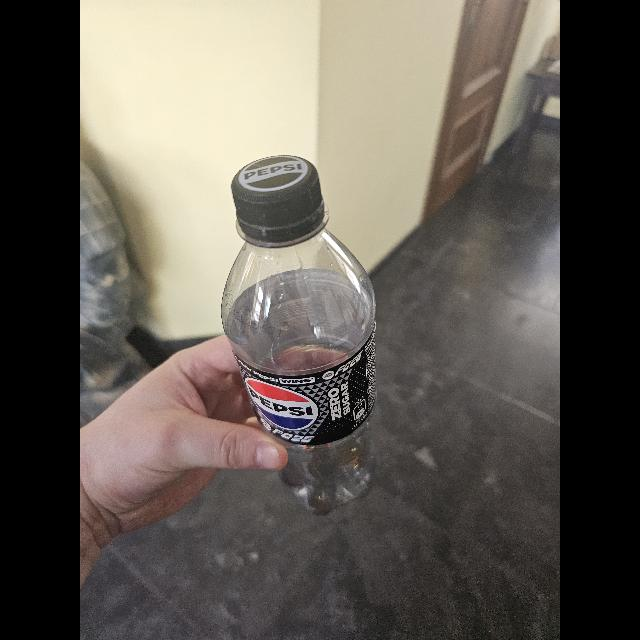Plastic: (219, 152, 383, 514)
